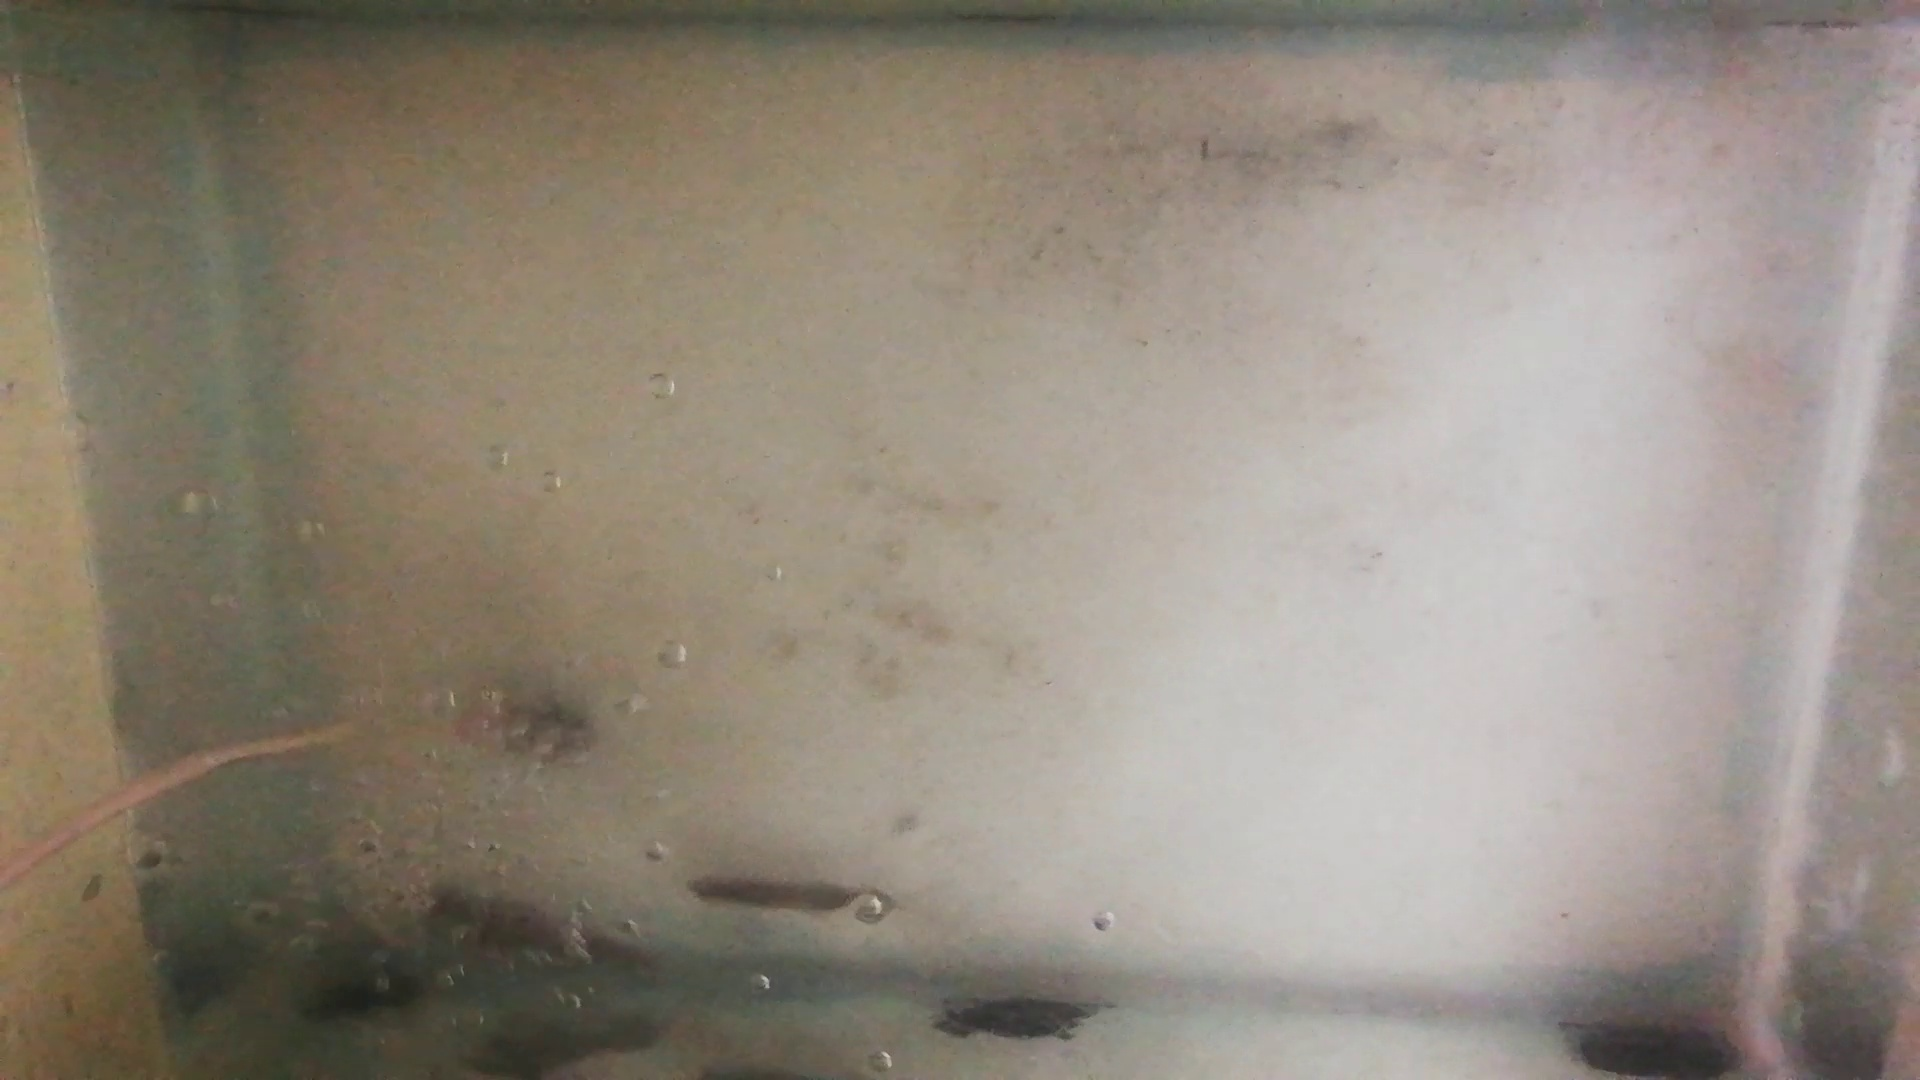fish: (409, 885, 659, 971), (684, 874, 861, 906)
